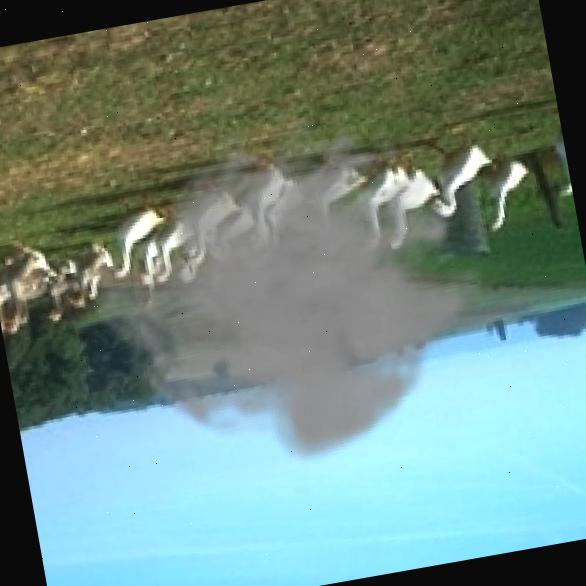smoke: (59, 87, 528, 497)
